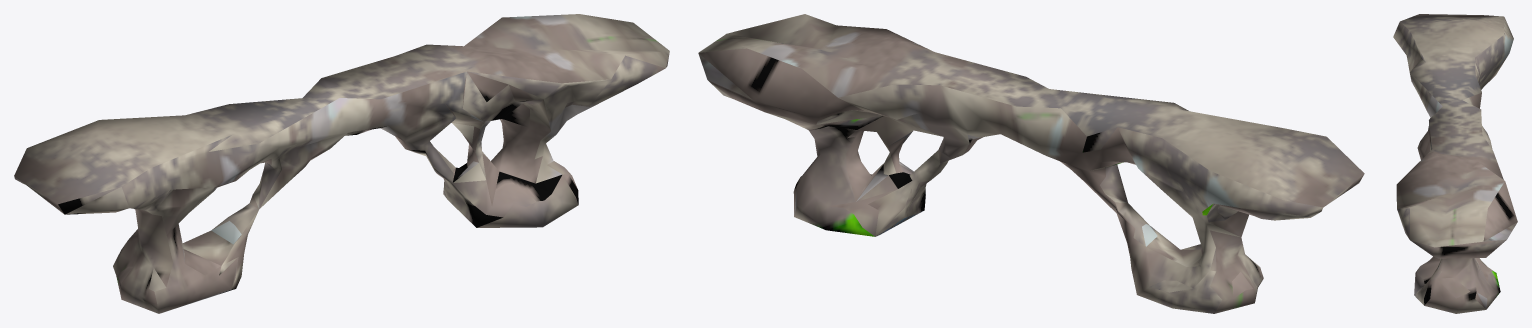
Rendered from Structure-14.fbx.
The picture shows the model from 3 angles, left to right: view 1: azimuth 30°, elevation 25°; view 2: azimuth 150°, elevation 25°; view 3: azimuth 270°, elevation 25°; orthographic projection. The views are drawn at different scales.
Visible parts, largest first — view 1: Structure-14; view 2: Structure-14; view 3: Structure-14.
Part boxes in pixels (box(x1,y1,x2,y2)): Structure-14: box(14, 14, 669, 313); Structure-14: box(698, 14, 1364, 313); Structure-14: box(1393, 14, 1517, 313).
Bounding box in the file's own units: 14.58 × 3.91 × 3.35.
